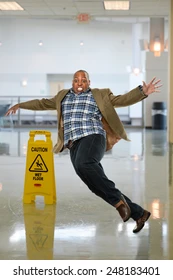wet caution sign: (20, 129, 56, 210)
